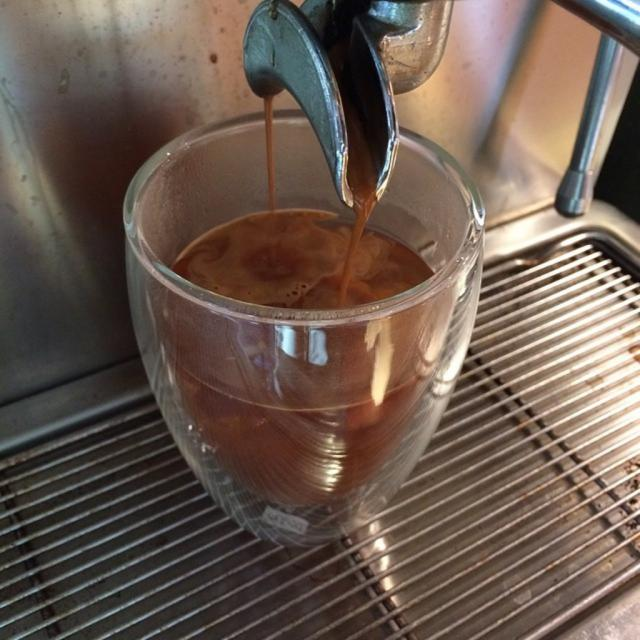Coffee: (116, 126, 503, 538)
Tea: (170, 197, 437, 511)
